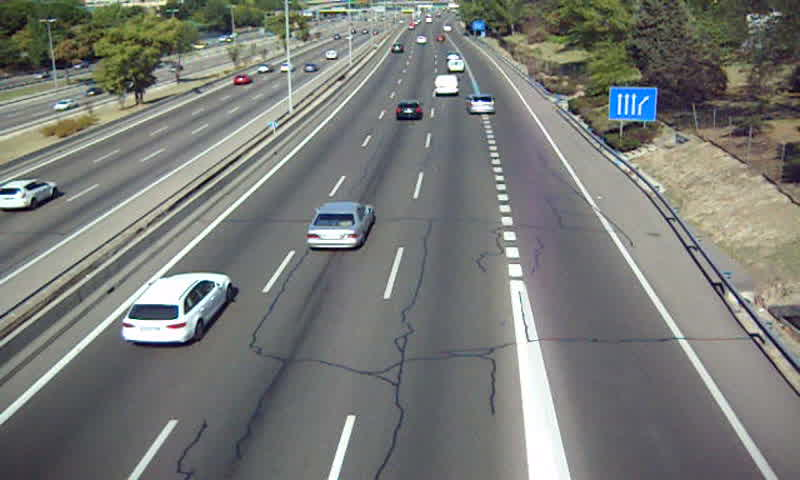car: (121, 272, 234, 347), (306, 202, 374, 250), (394, 100, 424, 120), (468, 94, 495, 115)
van: (434, 75, 459, 97), (449, 58, 465, 74)
